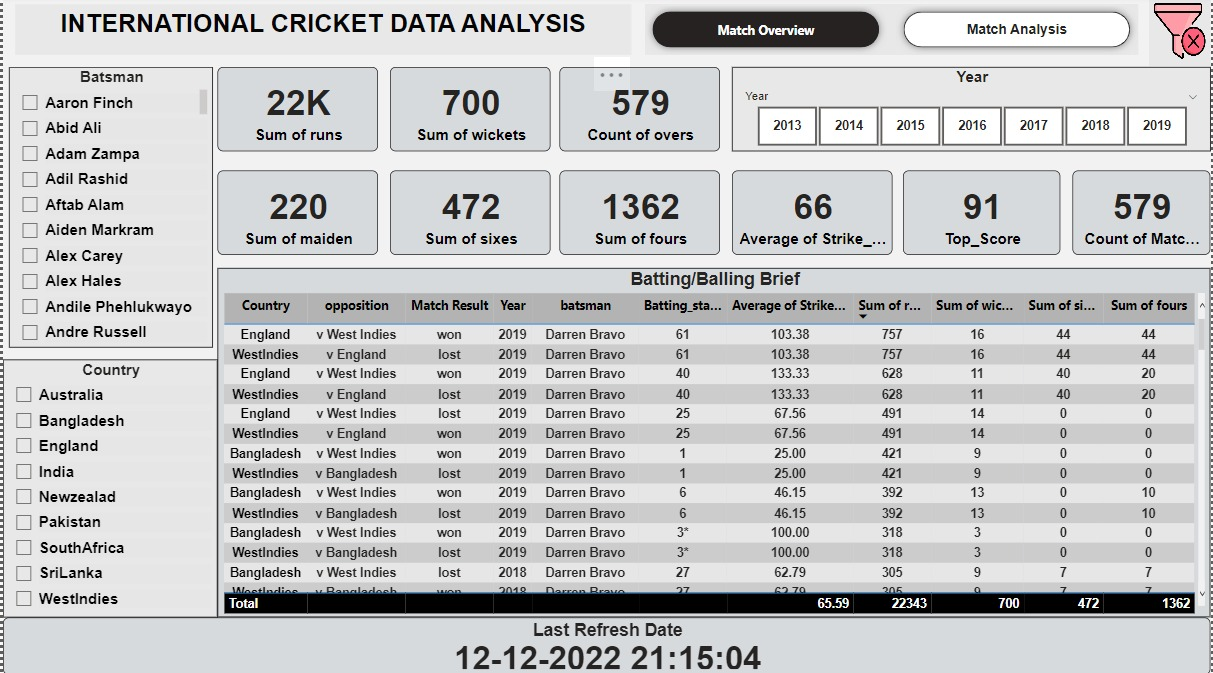

Layout of this report page (visuals, bound fields, positions):
{"tool":"powerbi","page":{"name":"Match Overview","canvas":[1280,720],"ordinal":0},"visuals":[{"type":"tableEx","title":"Batting/Balling Brief","fields":{"Values":["Cleaned_Master_Table.country","Cleaned_Master_Table.opposition","Cleaned_Master_Table.Match Result","Cleaned_Master_Table.start_date.Variation.Date Hierarchy.Year","Cleaned_Master_Table.batsman","Cleaned_Master_Table.Batting_status","Avg(Cleaned_Master_Table.Strike_rate)","Sum(Cleaned_Master_Table.runs)","Sum(Cleaned_Master_Table.wickets)","Sum(Cleaned_Master_Table.sixes)","Sum(Cleaned_Master_Table.fours)"]},"box":[227.3,289.3,1052.2,370.3],"z":0},{"type":"textbox","box":[12.7,9.5,653.2,54],"z":1000},{"type":"slicer","title":"Year","fields":{"Values":["Cleaned_Master_Table.start_date.Variation.Date Hierarchy.Year"]},"box":[772.5,76.3,507,89],"z":2000},{"type":"slicer","title":"Country","fields":{"Values":["Cleaned_Master_Table.Country"]},"box":[0,386.2,227.3,273.4],"z":3000},{"type":"image","box":[1214.3,0,65.2,76.3],"z":4000},{"type":"pageNavigator","box":[680.3,9.5,522.9,54],"z":5000},{"type":"card","title":"Match Brief","fields":{"Values":["CountNonNull(Cleaned_Master_Table.overs)"]},"box":[589.7,76.3,170.1,89],"z":6000},{"type":"card","title":"Match Brief","fields":{"Values":["Sum(Cleaned_Master_Table.wickets)"]},"box":[410.1,76.3,170.1,89],"z":7000},{"type":"card","title":"Match Brief","fields":{"Values":["Sum(Cleaned_Master_Table.runs)"]},"box":[227.3,76.3,170.1,89],"z":8000},{"type":"card","title":"Match Brief","fields":{"Values":["Sum(Cleaned_Master_Table.maiden)"]},"box":[227.3,186,170.1,89],"z":9000},{"type":"card","title":"Match Brief","fields":{"Values":["Sum(Cleaned_Master_Table.sixes)"]},"box":[410.1,186,170.1,89],"z":10000},{"type":"card","title":"Match Brief","fields":{"Values":["Sum(Cleaned_Master_Table.fours)"]},"box":[589.7,186,170.1,89],"z":11000},{"type":"card","title":"Match Brief","fields":{"Values":["Avg(Cleaned_Master_Table.Strike_rate)"]},"box":[772.5,186,170.1,89],"z":12000},{"type":"slicer","title":"Batsman","fields":{"Values":["Cleaned_Master_Table.batsman"]},"box":[6.4,76.3,216.2,297.2],"z":13000},{"type":"card","title":"Match Brief","fields":{"Values":["Cleaned_Master_Table.Top_Score"]},"box":[953.6,186,166.9,89],"z":14000},{"type":"card","title":"Match Brief","fields":{"Values":["CountNonNull(Cleaned_Master_Table.no_of_matches)"]},"box":[1133.2,186,146.2,89],"z":15000},{"type":"card","title":"Last Refresh Date","fields":{"Values":["Min(Invoked.Column1)"]},"box":[0,659.6,1279.5,60.4],"z":15001}]}

Visuals, with their boxes in screenshot pixels (x1, y1, x2, y2), scaled from the page's 1280x720 canvas onto the 1213x673 screenshot:
"Batting/Balling Brief" tableEx: select_region(215, 270, 1212, 617)
textbox: select_region(12, 9, 631, 59)
"Year" slicer: select_region(732, 71, 1212, 155)
"Country" slicer: select_region(0, 361, 215, 617)
image: select_region(1151, 0, 1212, 71)
pageNavigator: select_region(645, 9, 1140, 59)
"Match Brief" card: select_region(559, 71, 720, 155)
"Match Brief" card: select_region(389, 71, 550, 155)
"Match Brief" card: select_region(215, 71, 377, 155)
"Match Brief" card: select_region(215, 174, 377, 257)
"Match Brief" card: select_region(389, 174, 550, 257)
"Match Brief" card: select_region(559, 174, 720, 257)
"Match Brief" card: select_region(732, 174, 893, 257)
"Batsman" slicer: select_region(6, 71, 211, 349)
"Match Brief" card: select_region(904, 174, 1062, 257)
"Match Brief" card: select_region(1074, 174, 1212, 257)
"Last Refresh Date" card: select_region(0, 617, 1212, 672)
